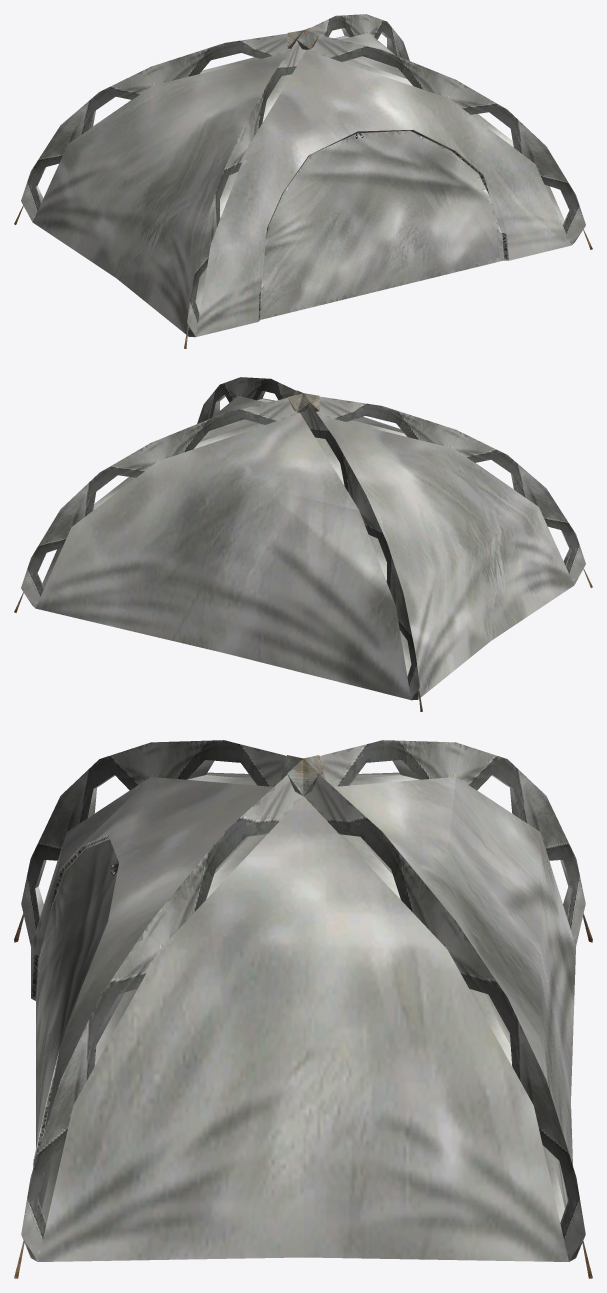
File: eqp_camping_tent_s2_l0.fbx
The picture shows the model from 3 angles, top to bottom: view 1: azimuth 30°, elevation 25°; view 2: azimuth 150°, elevation 25°; view 3: azimuth 270°, elevation 25°; orthographic projection. The views are drawn at different scales.
Parts seen in each view (by area): view 1: mesh_node; view 2: mesh_node; view 3: mesh_node.
Part boxes in pixels (x1,y1,x2,y2): mesh_node: (14,14,592,348); mesh_node: (14,377,592,711); mesh_node: (14,740,592,1278).
Bounding box in the file's own units: 3.29 × 1.59 × 2.38.
